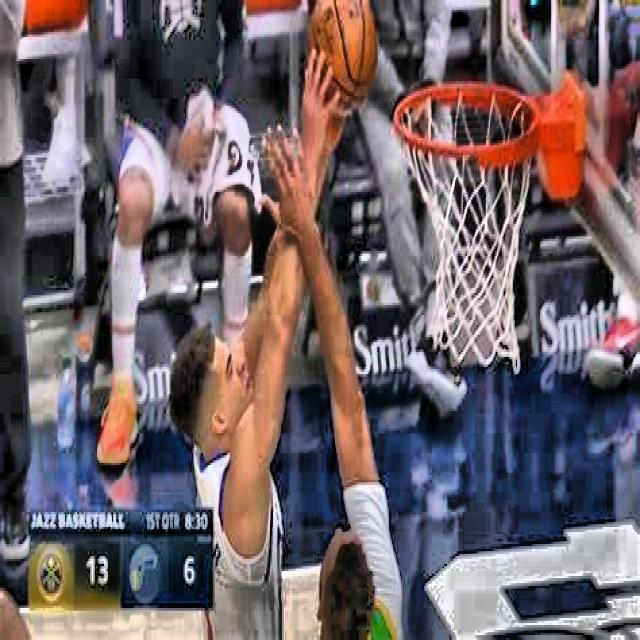rim: (392, 80, 534, 375)
